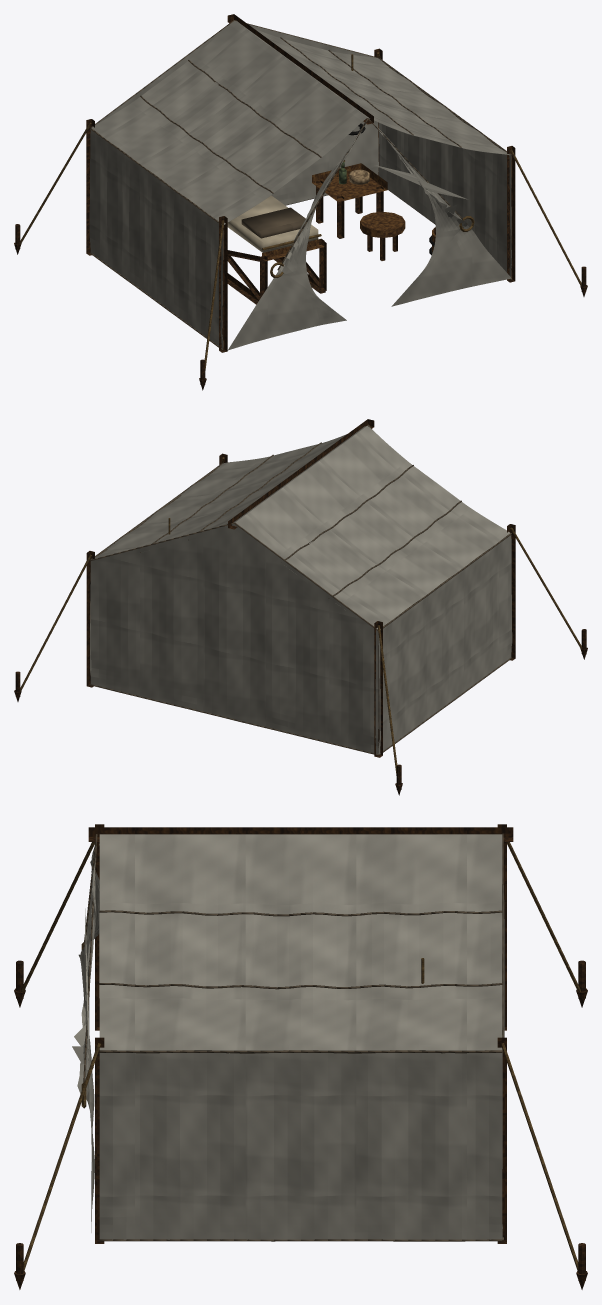
Rendered from medieval_rest_tent_3d_runtime.glb.
The picture shows the model from 3 angles, top to bottom: view 1: azimuth 30°, elevation 25°; view 2: azimuth 150°, elevation 25°; view 3: azimuth 270°, elevation 25°; orthographic projection. The views are drawn at different scales.
Visible parts, largest first — view 1: REST_TENT_CLOTH_REST_ROOF_-1, REST_TENT_CLOTH_REST_SIDE_-1, REST_TENT_CLOTH_REST_SIDE_1, REST_TENT_CLOTH_REST_ROOF_1, REST_TENT_WOOD_DARK_BATCH, REST_TENT_CLOTH_REST_FRONT_WING_1, REST_TENT_CLOTH_REST_FRONT_WING_-1, REST_TENT_CANVAS_DARK_BATCH, REST_TENT_CLOTH_REST_REAR, REST_TENT_WOOD_MID_BATCH, REST_TENT_ROPE_BATCH, REST_TENT_MEDICAL_LINEN_BATCH; view 2: REST_TENT_CLOTH_REST_REAR, REST_TENT_CLOTH_REST_ROOF_-1, REST_TENT_CLOTH_REST_SIDE_-1, REST_TENT_CLOTH_REST_ROOF_1, REST_TENT_WOOD_DARK_BATCH, REST_TENT_CANVAS_DARK_BATCH, REST_TENT_ROPE_BATCH; view 3: REST_TENT_CLOTH_REST_ROOF_1, REST_TENT_CLOTH_REST_SIDE_1, REST_TENT_WOOD_DARK_BATCH, REST_TENT_CANVAS_DARK_BATCH, REST_TENT_ROPE_BATCH, REST_TENT_CLOTH_REST_FRONT_WING_1, REST_TENT_CLOTH_REST_FRONT_WING_-1.
Part boxes in pixels (bbox=[...]): REST_TENT_CLOTH_REST_ROOF_-1: bbox=[91, 21, 366, 224]; REST_TENT_CLOTH_REST_SIDE_-1: bbox=[89, 130, 223, 348]; REST_TENT_CLOTH_REST_SIDE_1: bbox=[378, 69, 511, 279]; REST_TENT_CLOTH_REST_ROOF_1: bbox=[235, 21, 510, 155]; REST_TENT_WOOD_DARK_BATCH: bbox=[14, 14, 587, 390]; REST_TENT_CLOTH_REST_FRONT_WING_1: bbox=[375, 127, 511, 306]; REST_TENT_CLOTH_REST_FRONT_WING_-1: bbox=[227, 130, 361, 350]; REST_TENT_CANVAS_DARK_BATCH: bbox=[90, 20, 511, 350]; REST_TENT_CLOTH_REST_REAR: bbox=[95, 24, 378, 205]; REST_TENT_WOOD_MID_BATCH: bbox=[262, 163, 435, 261]; REST_TENT_ROPE_BATCH: bbox=[19, 52, 581, 370]; REST_TENT_MEDICAL_LINEN_BATCH: bbox=[227, 195, 318, 252]; REST_TENT_CLOTH_REST_REAR: bbox=[90, 524, 378, 754]; REST_TENT_CLOTH_REST_ROOF_-1: bbox=[235, 426, 510, 628]; REST_TENT_CLOTH_REST_SIDE_-1: bbox=[378, 535, 512, 753]; REST_TENT_CLOTH_REST_ROOF_1: bbox=[93, 426, 366, 559]; REST_TENT_WOOD_DARK_BATCH: bbox=[14, 419, 587, 795]; REST_TENT_CANVAS_DARK_BATCH: bbox=[90, 424, 511, 755]; REST_TENT_ROPE_BATCH: bbox=[20, 457, 582, 775]; REST_TENT_CLOTH_REST_ROOF_1: bbox=[99, 834, 502, 1050]; REST_TENT_CLOTH_REST_SIDE_1: bbox=[99, 1053, 502, 1239]; REST_TENT_WOOD_DARK_BATCH: bbox=[14, 824, 587, 1289]; REST_TENT_CANVAS_DARK_BATCH: bbox=[83, 833, 503, 1241]; REST_TENT_ROPE_BATCH: bbox=[21, 842, 580, 1271]; REST_TENT_CLOTH_REST_FRONT_WING_1: bbox=[72, 855, 95, 1232]; REST_TENT_CLOTH_REST_FRONT_WING_-1: bbox=[78, 848, 99, 1112].
Size of the model in its own units: 6.14 by 3.19 by 5.19.
10 materials, 10 textured.
